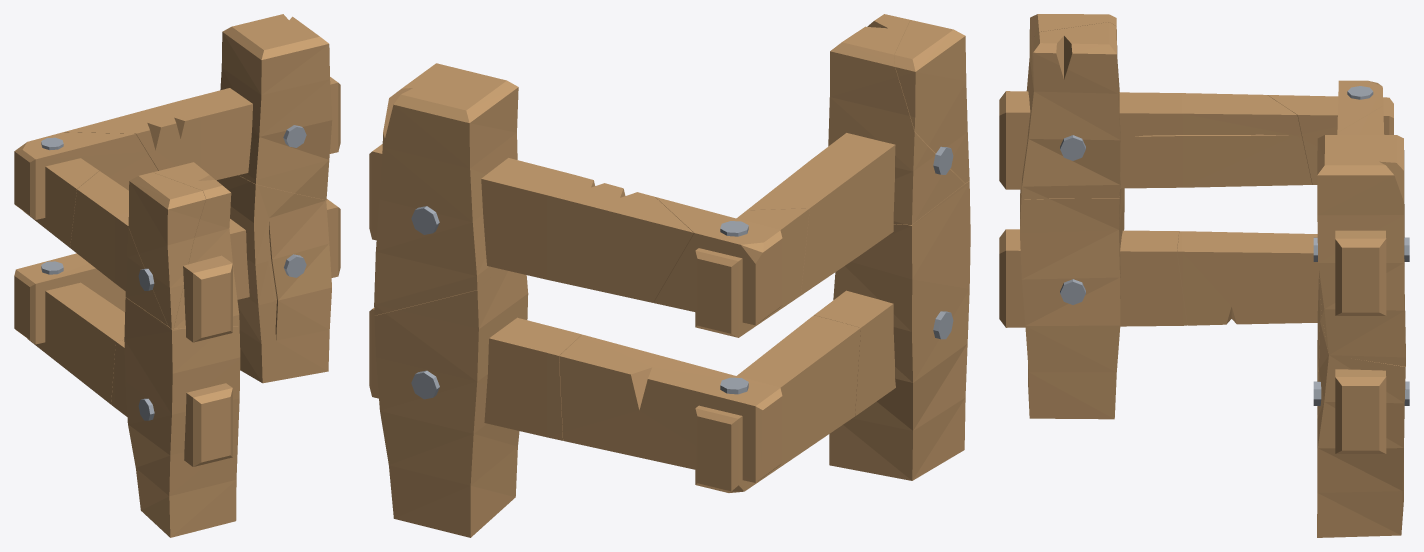
File: Fence crashed 2.fbx
3 renders of one model, left to right at view 1: azimuth 30°, elevation 25°; view 2: azimuth 150°, elevation 25°; view 3: azimuth 270°, elevation 25°, orthographic. The views are drawn at different scales.
Visible parts, largest first — view 1: Fence 2.002_cell, Fence 2.003_cell, Fence 2.003_cell.001, Fence 2.006_cell.001, Fence 2.001_cell.001, Fence 2.002_cell.001, Fence 2.005_cell.001, Fence 2.006_cell, Fence 2.002_cell.002, Fence 2.005_cell, Fence 2.004_cell.001, Fence 2.001_cell (+3 smaller); view 2: Fence 2.003_cell, Fence 2.003_cell.001, Fence 2.002_cell, Fence 2.006_cell.001, Fence 2.004_cell.001, Fence 2.005_cell.001, Fence 2.002_cell.002, Fence 2.001_cell.001, Fence 2.004_cell, Fence 2.002_cell.001, Fence 2.006_cell, Fence 2.001_cell (+1 smaller); view 3: Fence 2.002_cell, Fence 2.001_cell.001, Fence 2.002_cell.002, Fence 2.003_cell.001, Fence 2.005_cell.001, Fence 2.003_cell, Fence 2.005_cell, Fence 2.006_cell.001, Fence 2.004_cell, Fence 2.001_cell, Fence 2.006_cell, Fence 2.002_cell.001 (+2 smaller).
Part boxes in pixels (box(x1,y1,x2,y2)): Fence 2.002_cell: box(124, 297, 240, 537); Fence 2.003_cell: box(217, 175, 331, 383); Fence 2.003_cell.001: box(220, 14, 332, 200); Fence 2.006_cell.001: box(64, 77, 340, 180); Fence 2.001_cell.001: box(70, 171, 232, 342); Fence 2.002_cell.001: box(128, 172, 205, 328); Fence 2.005_cell.001: box(27, 282, 124, 404); Fence 2.006_cell: box(14, 132, 158, 219); Fence 2.002_cell.002: box(125, 162, 239, 328); Fence 2.005_cell: box(111, 340, 232, 466); Fence 2.004_cell.001: box(14, 253, 125, 344); Fence 2.001_cell: box(23, 158, 98, 247); Fence 2.003_cell: box(374, 269, 528, 537); Fence 2.003_cell.001: box(374, 63, 518, 315); Fence 2.002_cell: box(829, 181, 970, 480); Fence 2.006_cell.001: box(369, 144, 693, 302); Fence 2.004_cell.001: box(559, 334, 782, 482); Fence 2.005_cell.001: box(695, 315, 860, 492); Fence 2.002_cell.002: box(828, 14, 964, 224); Fence 2.001_cell.001: box(747, 133, 895, 295); Fence 2.004_cell: box(369, 308, 581, 440); Fence 2.002_cell.001: box(894, 20, 969, 183); Fence 2.006_cell: box(653, 197, 782, 325); Fence 2.001_cell: box(695, 208, 809, 337); Fence 2.002_cell: box(1020, 188, 1124, 419); Fence 2.001_cell.001: box(999, 91, 1312, 189); Fence 2.002_cell.002: box(1021, 22, 1120, 199); Fence 2.003_cell.001: box(1317, 135, 1405, 366); Fence 2.005_cell.001: box(1177, 231, 1318, 325); Fence 2.003_cell: box(1317, 274, 1405, 537); Fence 2.005_cell: box(999, 229, 1187, 327); Fence 2.006_cell.001: box(1335, 106, 1386, 315); Fence 2.004_cell: box(1335, 369, 1386, 453); Fence 2.001_cell: box(1267, 95, 1393, 184); Fence 2.006_cell: box(1337, 80, 1383, 132); Fence 2.002_cell.001: box(1026, 14, 1117, 93).
Size of the model in its own units: 2.85 by 2.87 by 2.88.
